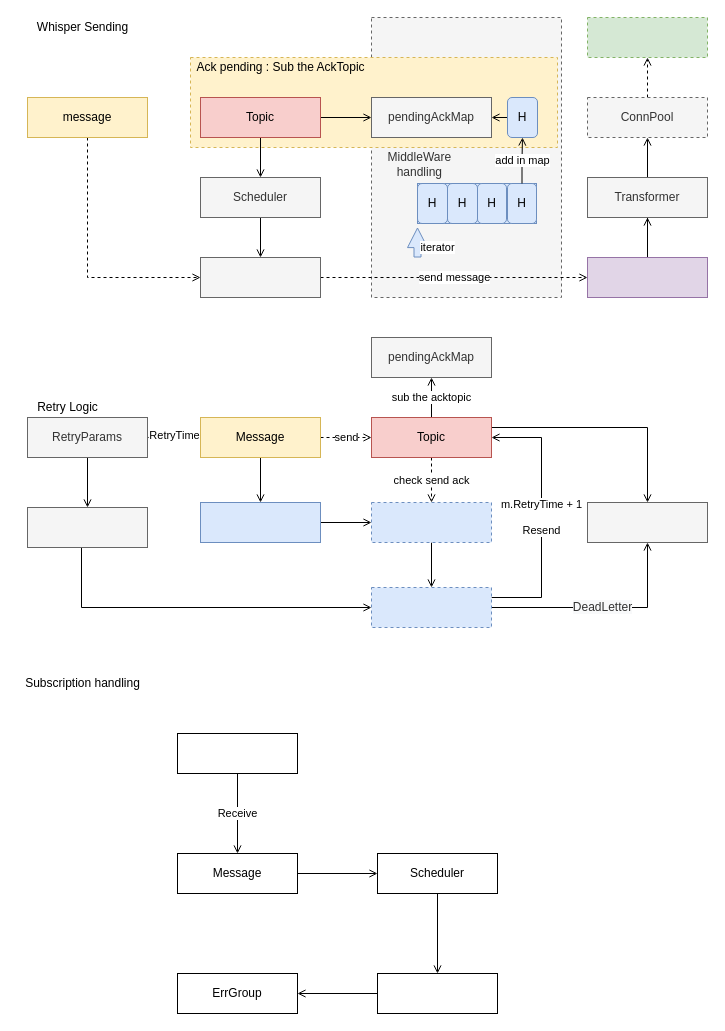
The diagram is 725 pixels wide and 1031 high, and some of its shapes have lost their labels. The shapes that lost their labels are listed below. From the top down, each one's centre as x and y in pixels, then its label:
(647,37): MQ
(260,277): Worker routine
(647,277): Driver
(87,527): delaytime
(260,522): ack()
(431,522): doneFunc
(647,522): Queue
(431,607): NeedRetry()
(237,753): Subscription
(437,993): Handling Routine
